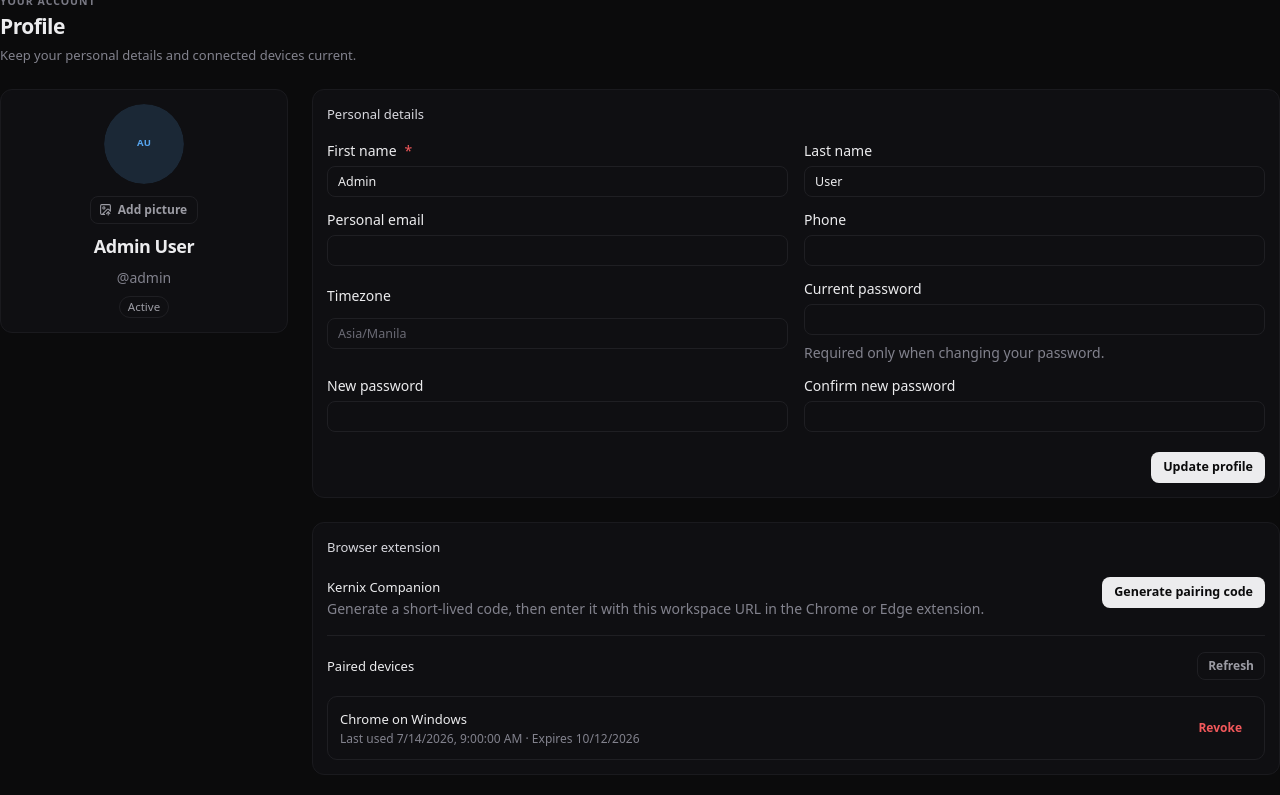
Scenario: Profile browser extension management › generates a one-time code and lists and revokes paired devices
Expected: the text "Chrome on Windows" is shown, [340, 710, 467, 728]
Click the button "Generate pairing code" at (1184, 592), box [1102, 577, 1265, 608]
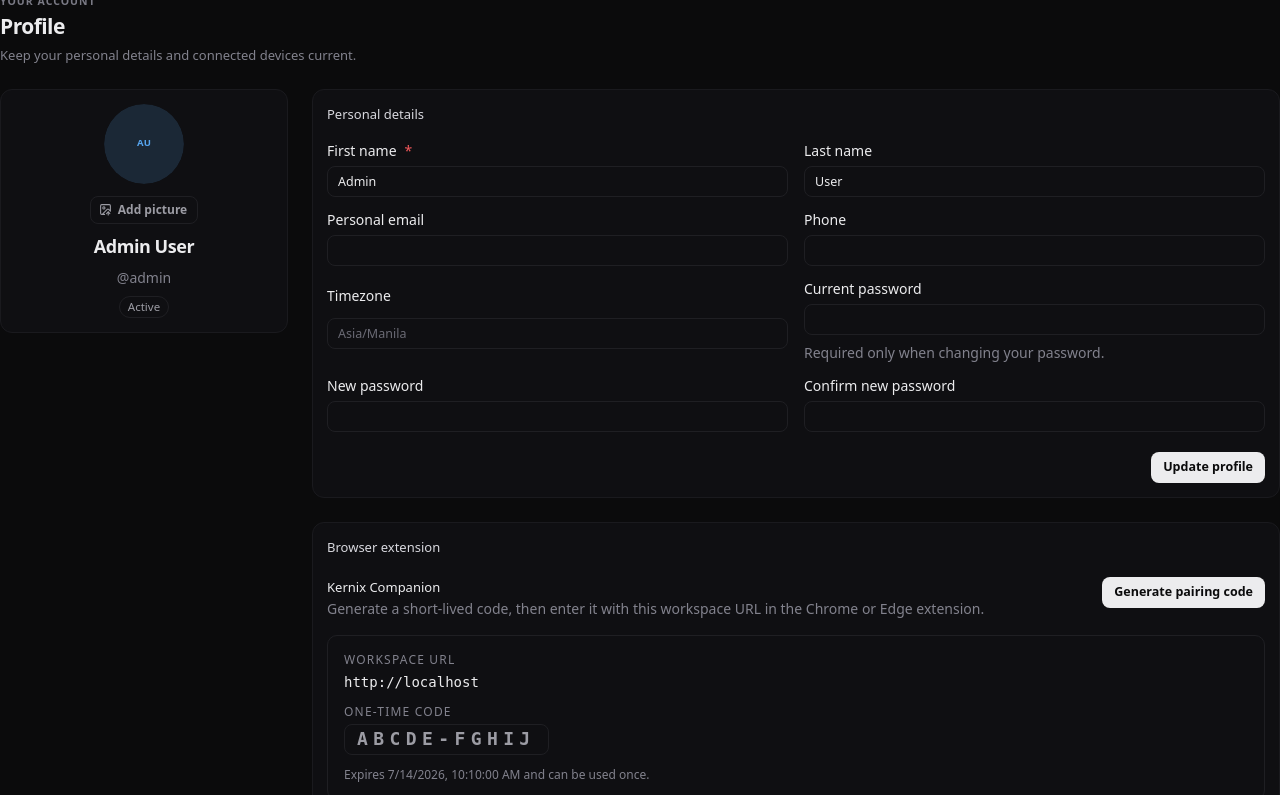
Expected: the button "ABCDE-FGHIJ" is shown
Click the button "ABCDE-FGHIJ" at (446, 739), box [344, 724, 549, 755]
(page scrolled)
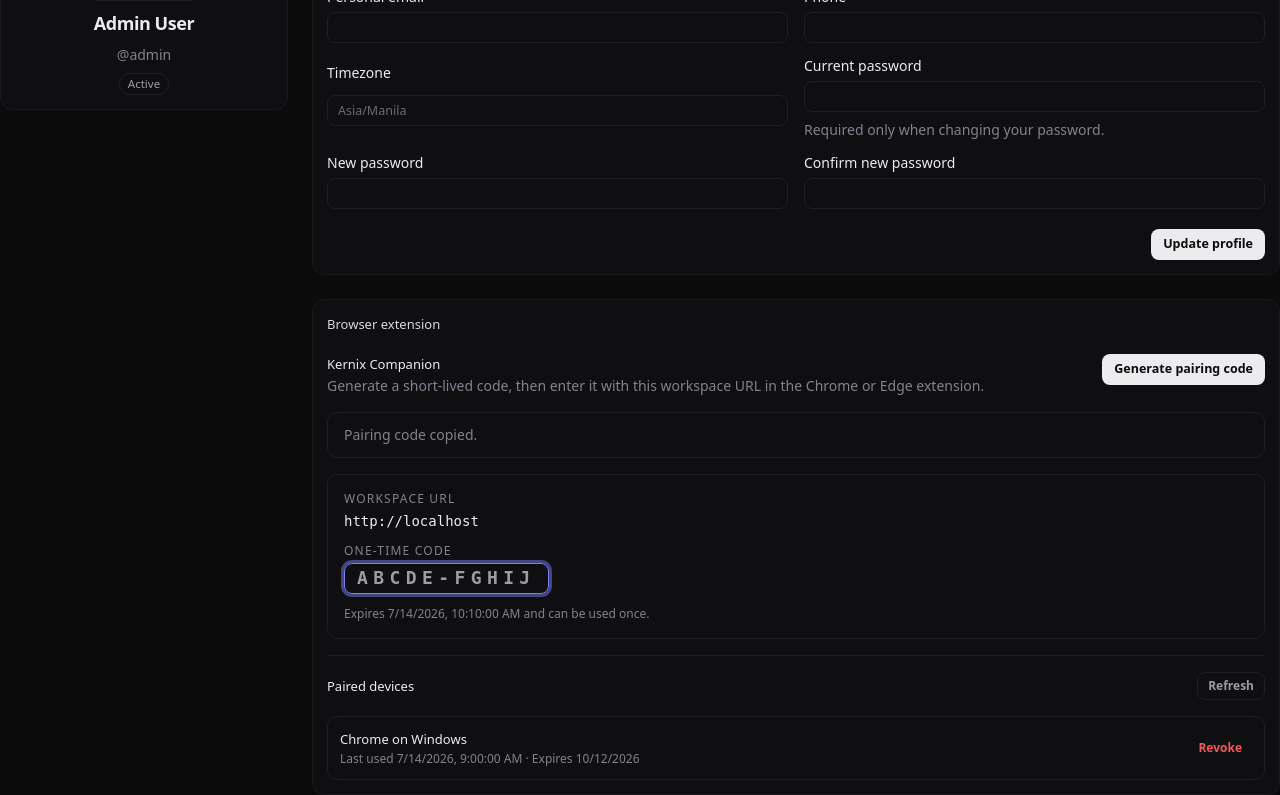
Click the button "Revoke" at (1220, 748), box [1188, 734, 1252, 762]
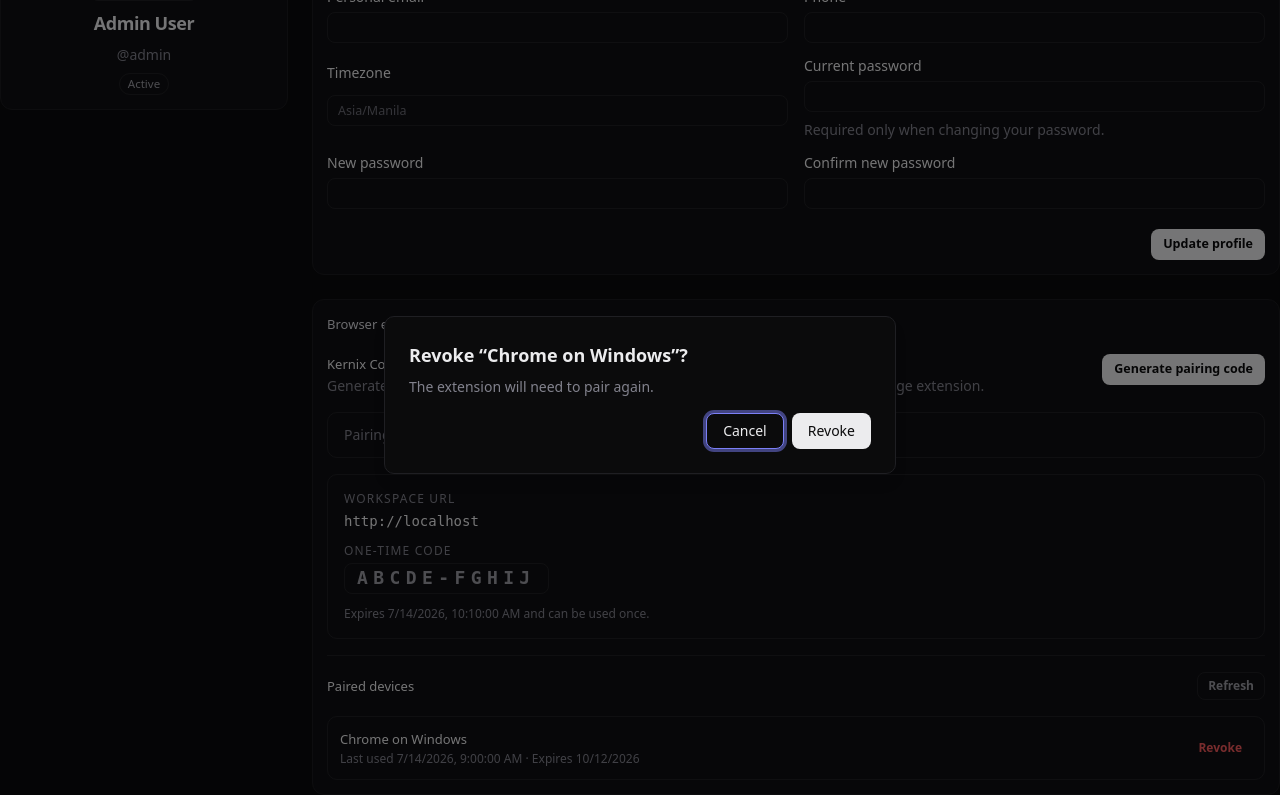
Expected: the dialog shows "Chrome on Windows", [487, 343, 671, 367]
Click the button "Revoke" at (831, 431), box [792, 413, 871, 449]
(page scrolled)
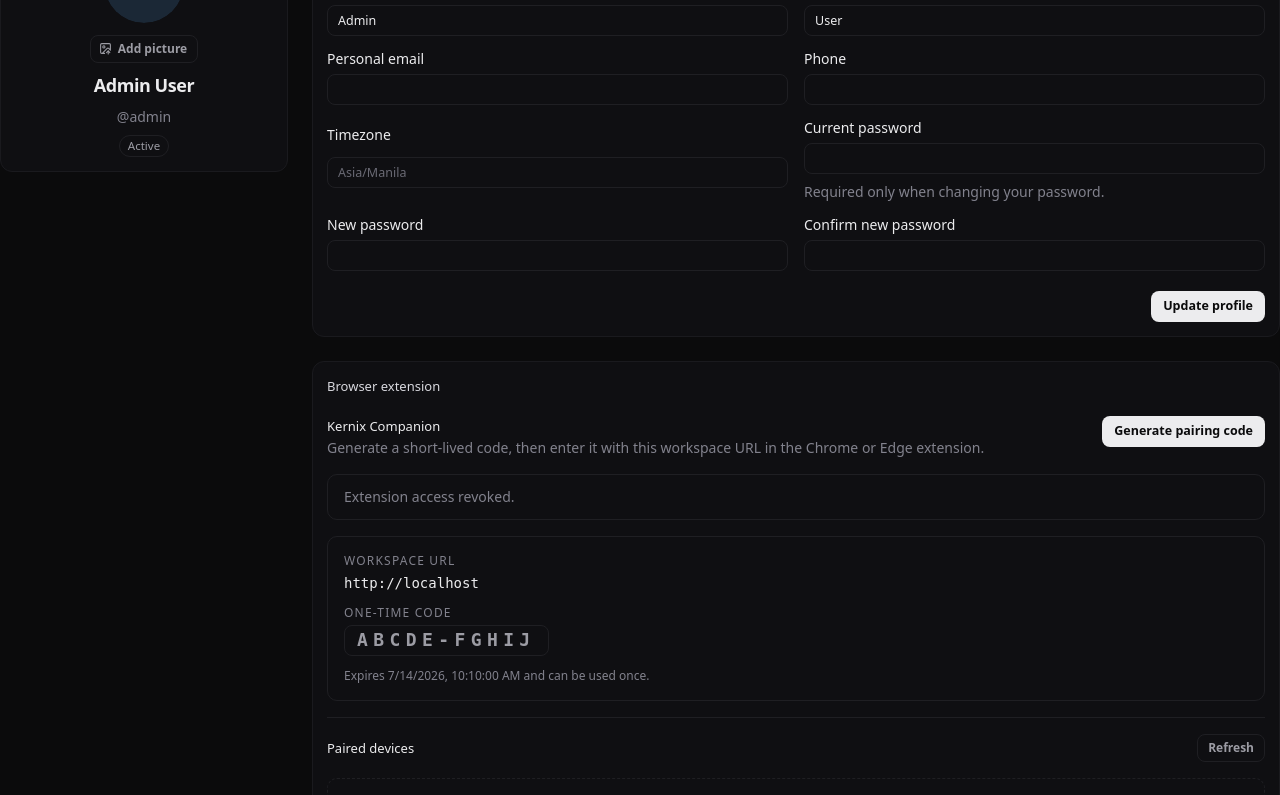
Expected: the text "Chrome on Windows" is gone
